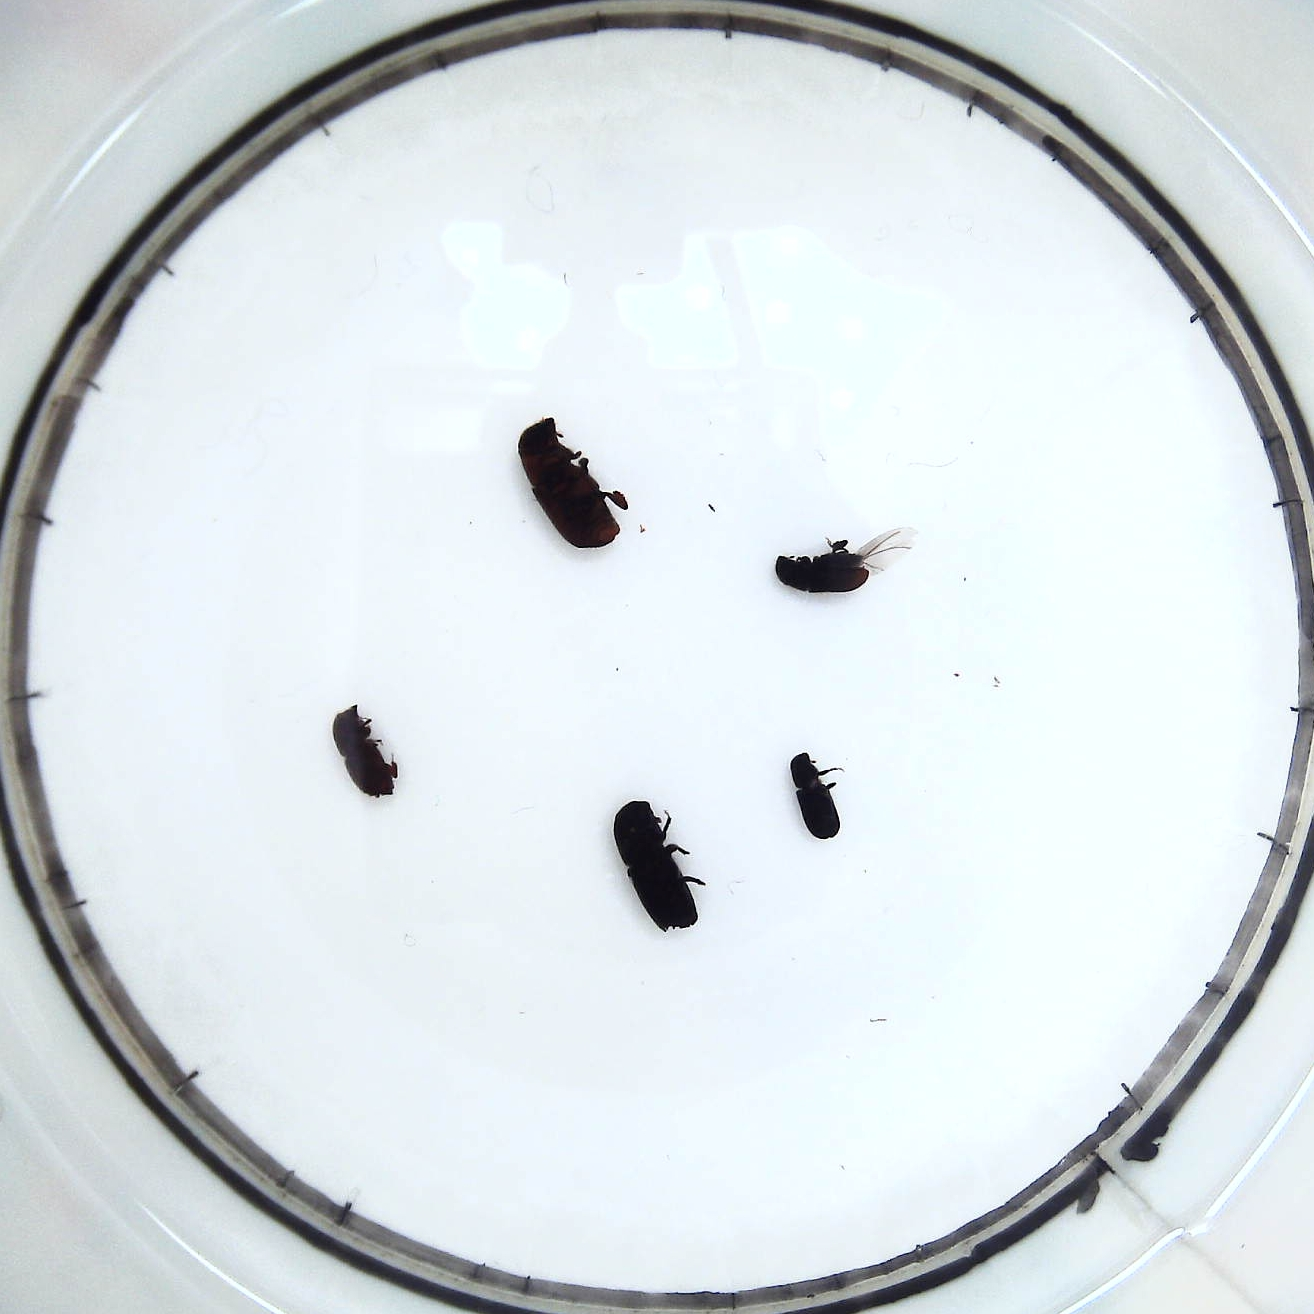Boerner: (606, 793, 712, 940)
Leconte: (516, 410, 634, 557)
armandi: (763, 529, 931, 600)
coleoptera: (787, 744, 846, 847)
linnaeus: (326, 702, 407, 803)
